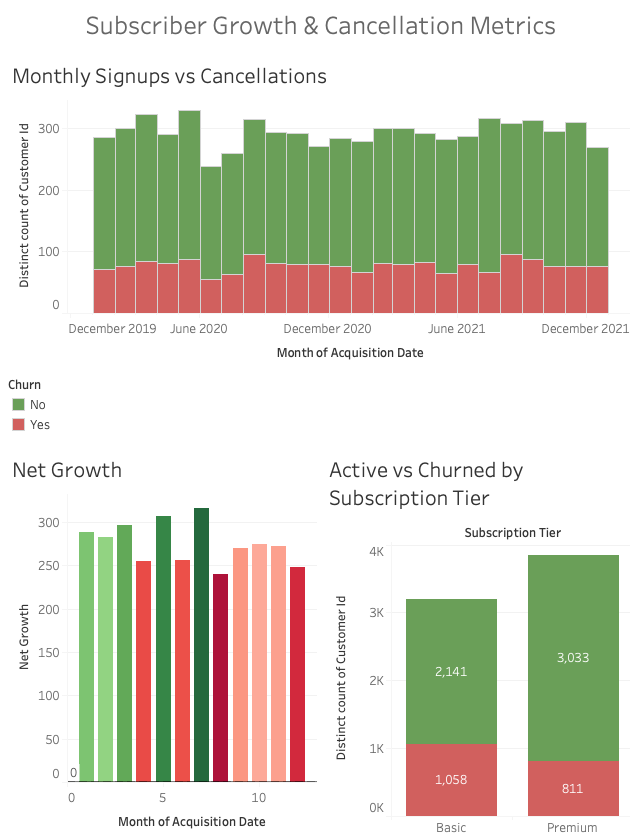

Layout of this report page (visuals, bound fields, positions):
{"tool":"tableau","page":{"name":"Growth Metrics","canvas":[650,860],"ordinal":3},"visuals":[{"type":"text","box":[8,8,634,56]},{"type":"worksheet","title":"Growth vs Cancellations","mark":"Bar","rows":["customer_id"],"cols":["acquisition_date"],"box":[8,64,634,319]},{"type":"legend","title":"Growth vs Cancellations","param":"[federated.0gyywgw1lz12qx14jcgju14deura].[none:churn:nk]","box":[8,383,634,75]},{"type":"worksheet","title":"Net Growth","mark":"Bar","rows":["Calculation_2320147985940483"],"cols":["acquisition_date"],"box":[8,458,317,394]},{"type":"worksheet","title":"Tier Comparison","mark":"Bar","rows":["customer_id"],"cols":["subscription_tier"],"box":[325,458,317,394]}]}

Visuals, with their boxes in screenshot pixels (x1, y1, x2, y2), scaled from the page's 650x860 canvas onto the 630x839 screenshot:
text: l=8, t=8, r=622, b=62
"Growth vs Cancellations" worksheet (Bar marks): l=8, t=62, r=622, b=374
"Growth vs Cancellations" legend: l=8, t=374, r=622, b=447
"Net Growth" worksheet (Bar marks): l=8, t=447, r=315, b=831
"Tier Comparison" worksheet (Bar marks): l=315, t=447, r=622, b=831
